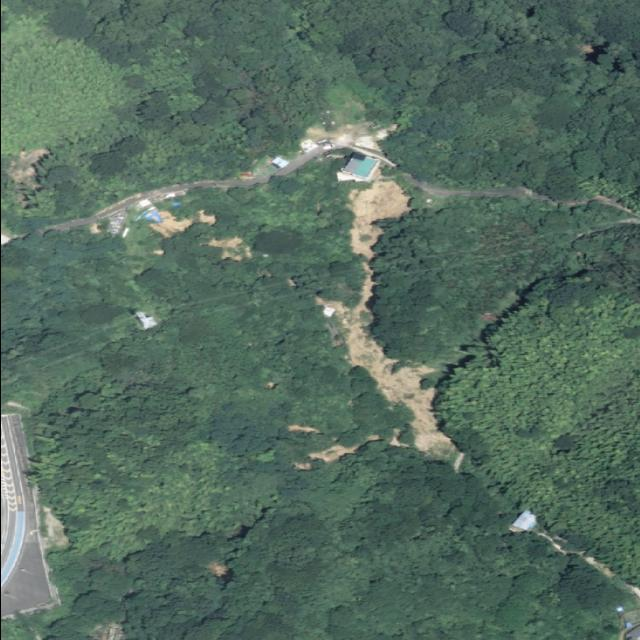landslide: (315, 261, 462, 470), (347, 180, 409, 261)
